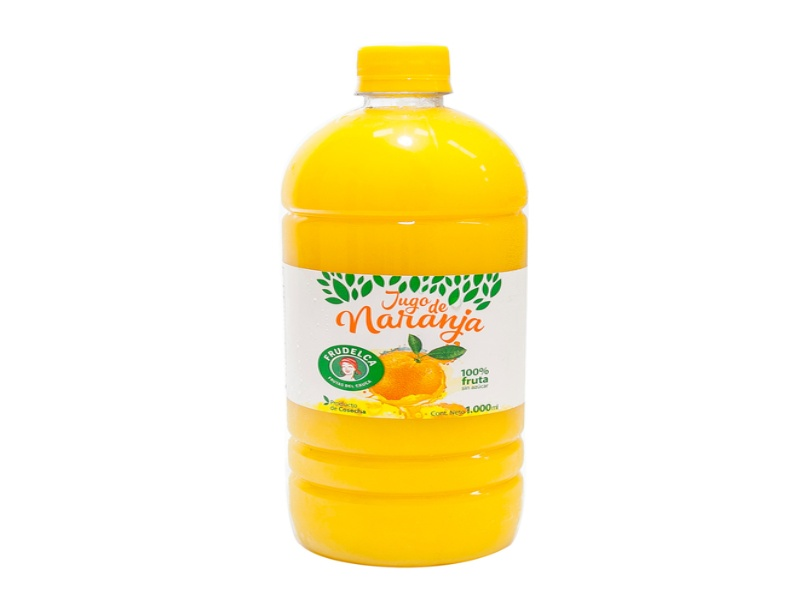Jugo de naranja: (269, 32, 539, 574)
